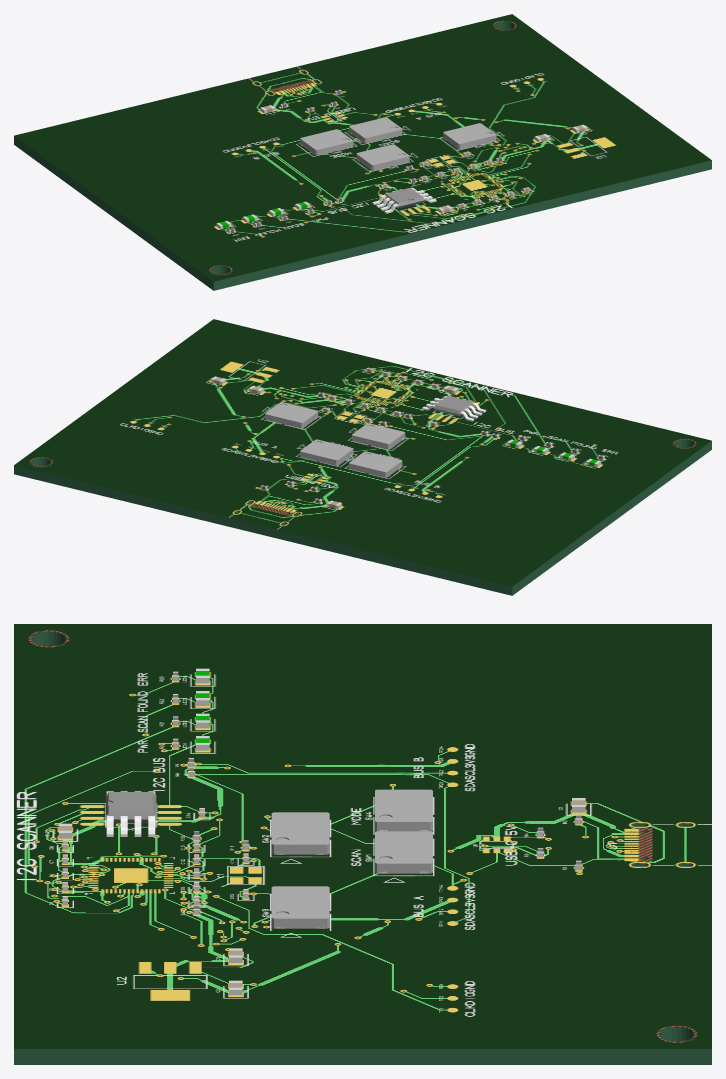
3 views of the same model, one above another, from view 1: azimuth 30°, elevation 25°; view 2: azimuth 150°, elevation 25°; view 3: azimuth 270°, elevation 25° (orthographic). The views are drawn at different scales.
Visible parts, largest first — view 1: Box0, SW2, SW3, SW4, SW1, U4; view 2: Box0, SW3, SW2, SW1, SW4, U4; view 3: Box0, SW2, SW3, SW1, SW4, U4.
Boxes of the visible parts, x1,y1,x2,y2 form: Box0: (14, 14, 711, 290); SW2: (356, 144, 409, 170); SW3: (443, 123, 496, 149); SW4: (300, 129, 353, 155); SW1: (349, 117, 402, 143); U4: (372, 187, 436, 213); Box0: (14, 319, 711, 595); SW3: (265, 402, 318, 428); SW2: (352, 423, 405, 449); SW1: (300, 439, 353, 465); SW4: (349, 451, 402, 477); U4: (422, 395, 486, 421); Box0: (14, 624, 711, 1064); SW2: (271, 812, 329, 854); SW3: (271, 886, 329, 928); SW1: (375, 831, 432, 873); SW4: (375, 789, 432, 831); U4: (105, 791, 156, 836).
Size of the model in its own units: 91.9 by 2.88 by 63.8.
10 materials, 2 textured.
